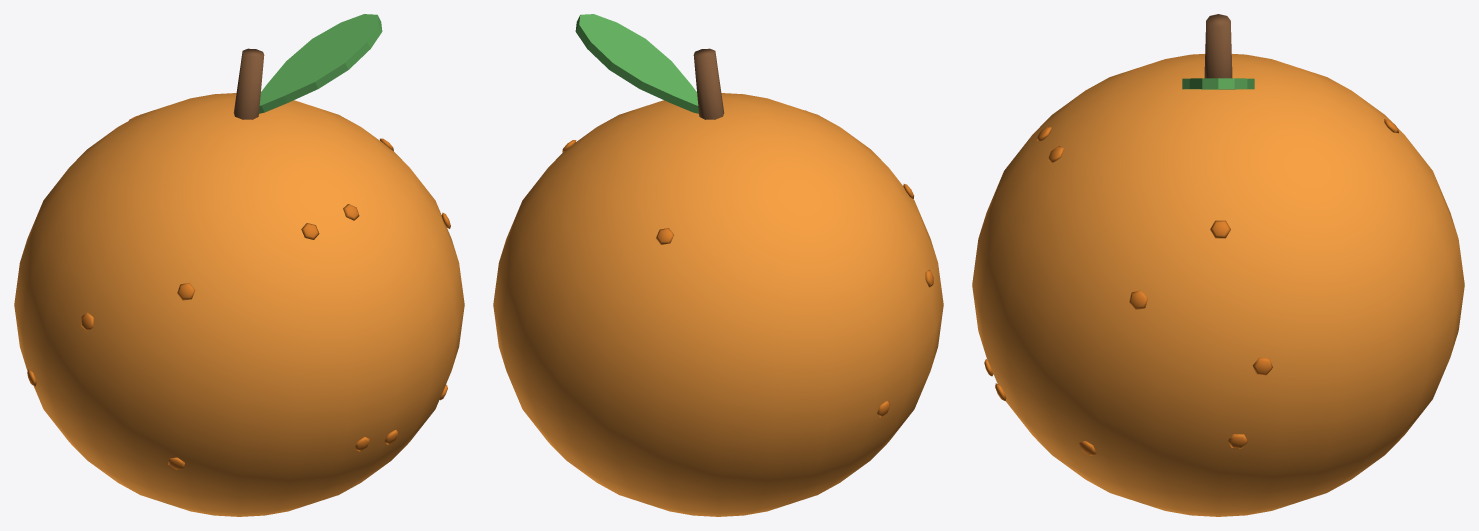
Rendered from fruit-orange.glb.
3 views of the same model, side by side, from view 1: azimuth 30°, elevation 25°; view 2: azimuth 150°, elevation 25°; view 3: azimuth 270°, elevation 25° (orthographic). The views are drawn at different scales.
Visible parts, largest first — view 1: fruit; view 2: fruit; view 3: fruit.
Part boxes in pixels (x1,y1,x2,y2): fruit: (14,14,464,516); fruit: (493,14,943,516); fruit: (972,14,1464,516).
Size of the model in its own units: 0.28 by 0.3058 by 0.28.
